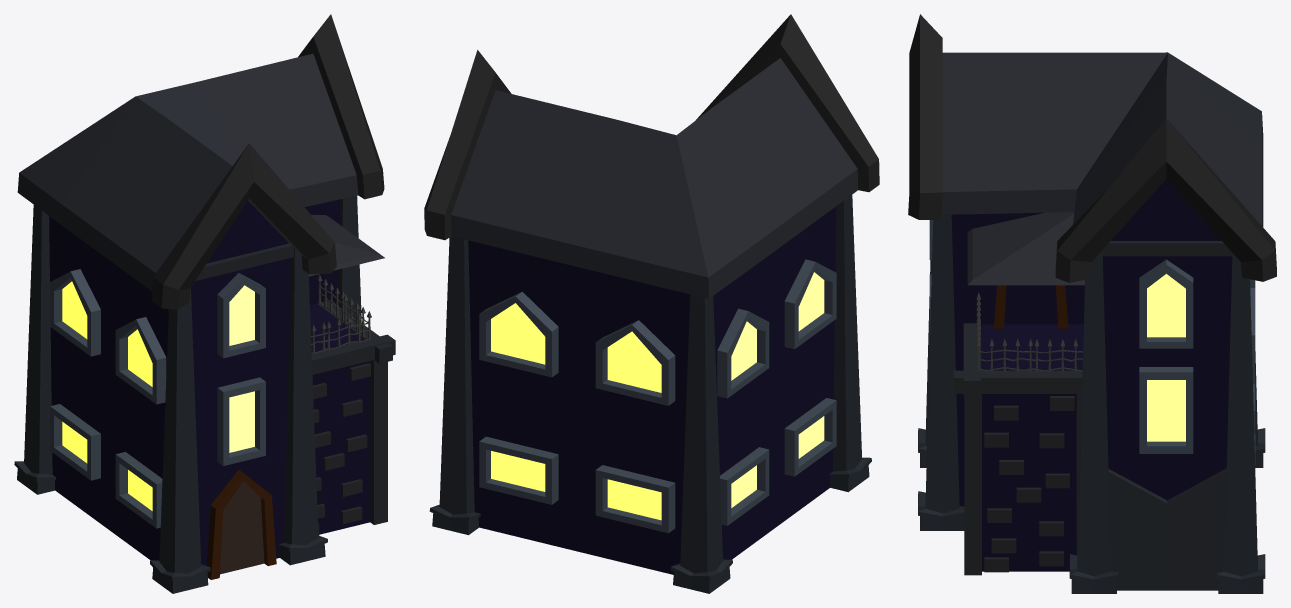
Rendered from Casa8.fbx.
3 views of the same model, side by side, from view 1: azimuth 30°, elevation 25°; view 2: azimuth 150°, elevation 25°; view 3: azimuth 270°, elevation 25° (orthographic). The views are drawn at different scales.
Visible parts, largest first — view 1: T2_Telhado01, T2_Parede01, T2_Pilar01, T2_JanelaContorno01, T2_Divisao01, T2_FundoJanela01, T2_Porta01.001, T2_Tijolo01, T2_PortaContorno01, T2_Cerca01; view 2: T2_Telhado01, T2_Parede01, T2_Pilar01, T2_JanelaContorno01, T2_FundoJanela01; view 3: T2_Telhado01, T2_Parede01, T2_Pilar01, T2_Divisao01, T2_JanelaContorno01, T2_Tijolo01, T2_FundoJanela01, T2_Cerca01, T2_PortaContorno01.
Part boxes in pixels (left/top/right/bottom): T2_Telhado01: left=17, top=14, right=384, bottom=309; T2_Parede01: left=49, top=199, right=370, bottom=565; T2_Pilar01: left=14, top=196, right=361, bottom=593; T2_JanelaContorno01: left=50, top=269, right=265, bottom=528; T2_Divisao01: left=195, top=243, right=395, bottom=524; T2_FundoJanela01: left=62, top=281, right=254, bottom=510; T2_Porta01.001: left=220, top=481, right=264, bottom=574; T2_Tijolo01: left=313, top=363, right=370, bottom=535; T2_PortaContorno01: left=206, top=470, right=276, bottom=579; T2_Cerca01: left=311, top=274, right=371, bottom=354; T2_Telhado01: left=424, top=14, right=879, bottom=298; T2_Parede01: left=468, top=206, right=836, bottom=574; T2_Pilar01: left=429, top=195, right=871, bottom=593; T2_JanelaContorno01: left=479, top=259, right=836, bottom=533; T2_FundoJanela01: left=491, top=272, right=824, bottom=520; T2_Telhado01: left=908, top=14, right=1276, bottom=285; T2_Parede01: left=951, top=179, right=1232, bottom=571; T2_Pilar01: left=918, top=214, right=1265, bottom=593; T2_Divisao01: left=953, top=241, right=1232, bottom=590; T2_JanelaContorno01: left=929, top=220, right=1255, bottom=464; T2_Tijolo01: left=984, top=396, right=1074, bottom=572; T2_FundoJanela01: left=1147, top=274, right=1185, bottom=441; T2_Cerca01: left=976, top=292, right=1082, bottom=371; T2_PortaContorno01: left=994, top=285, right=1068, bottom=328.
Bounding box in the file's own units: 1079 × 1538 × 1079.
